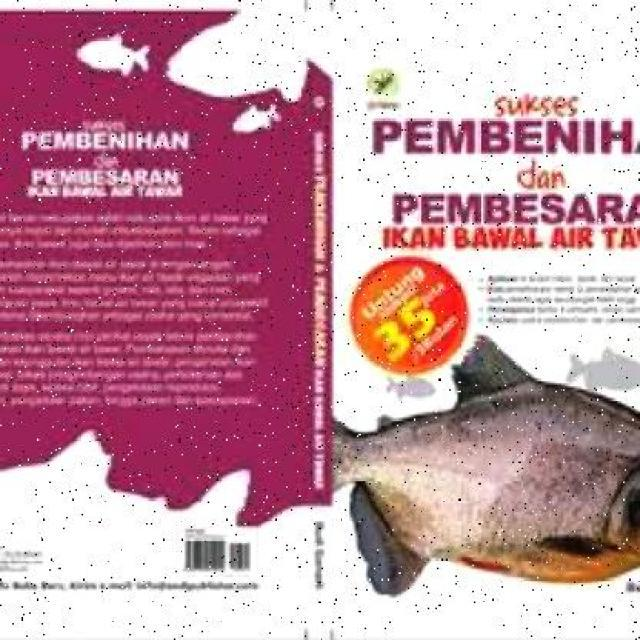ikan-pacu: (327, 332, 636, 588)
